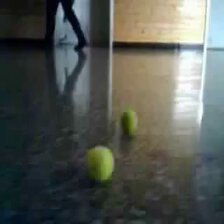tennis: (86, 146, 115, 182), (119, 110, 138, 138)
